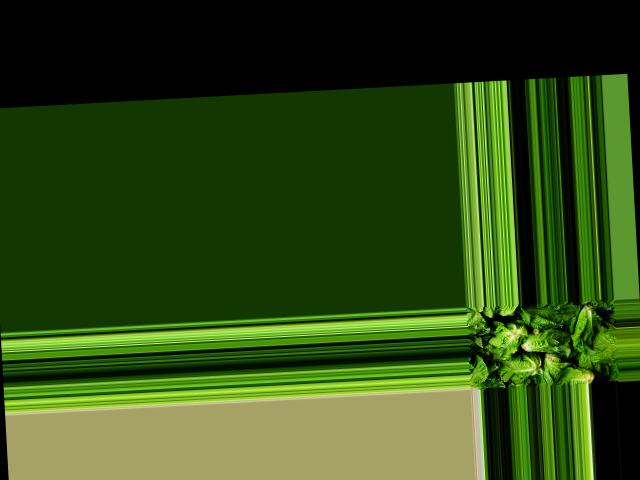lettuce: (551, 363, 601, 385)
